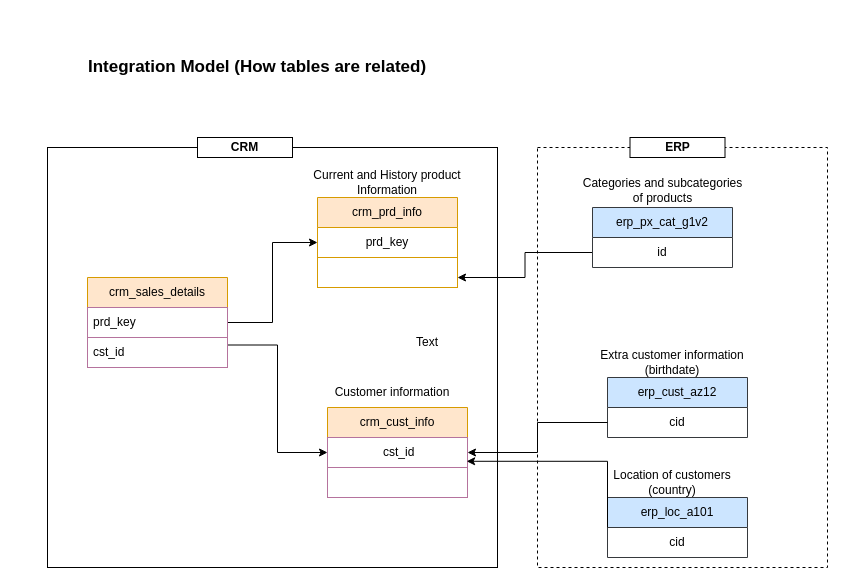
The diagram is 845 pixels wide and 585 high, and some of its shapes have lost their labels. The shapes that lost their labels are listed below. From the top down, each one's centre as x and y in pixels, then its label:
At (x=387, y=272): "cat_id(silver layer)".
At (x=397, y=482): "cst_key".
